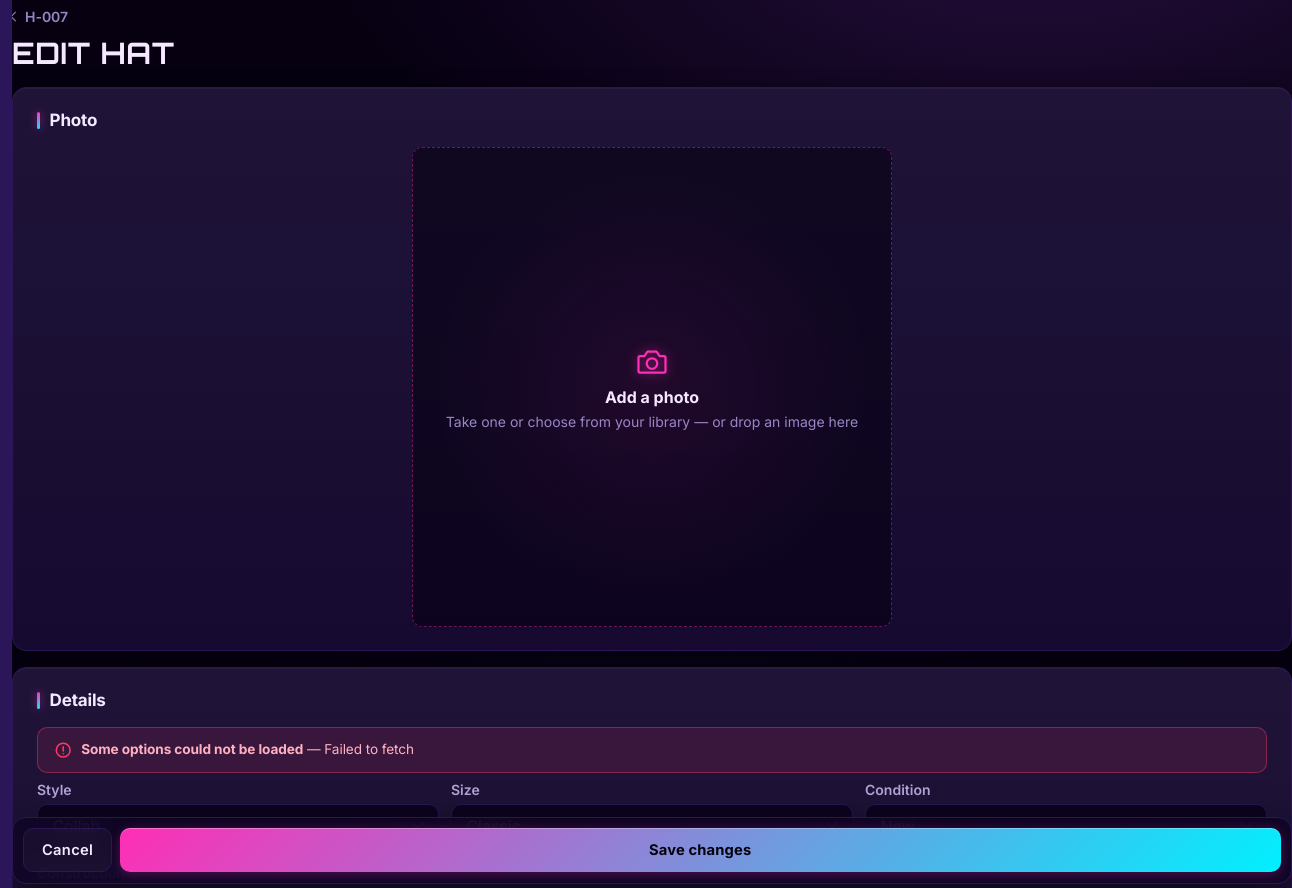
EditHatPage — Collection / collab › says why a save failed, in place, and stays on the form
Click the button "Save changes" at (700, 851), box [120,829,1281,873]
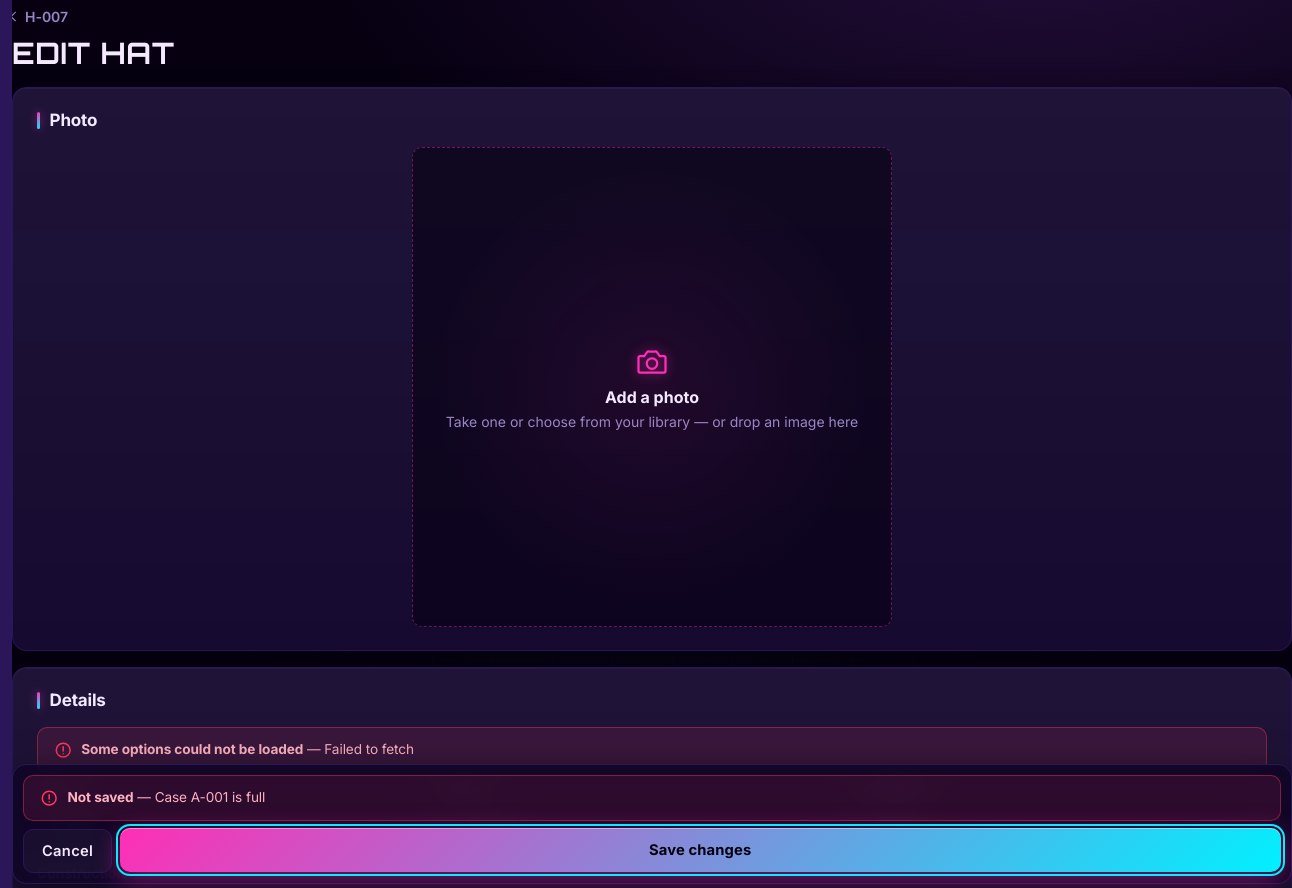
Now the text "Not saved — Case A-001 is full" is shown, box [68,788,265,808]
